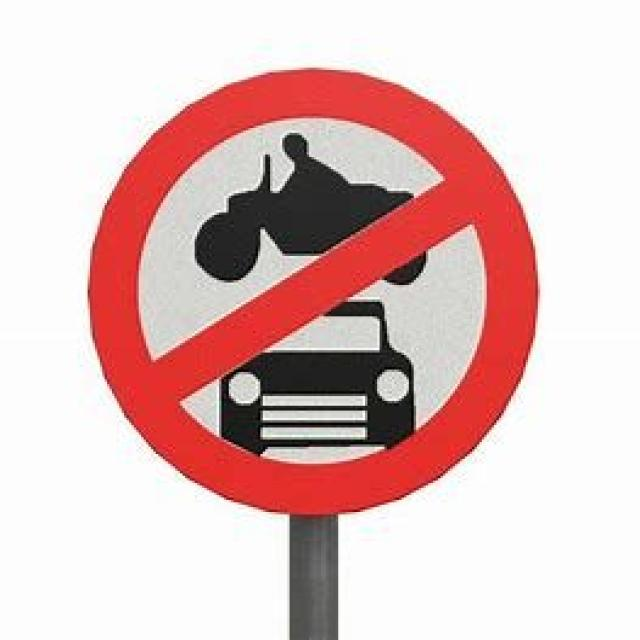ALL_MOTOR_VEHICLE_PROHIBITED: (74, 58, 548, 536)
